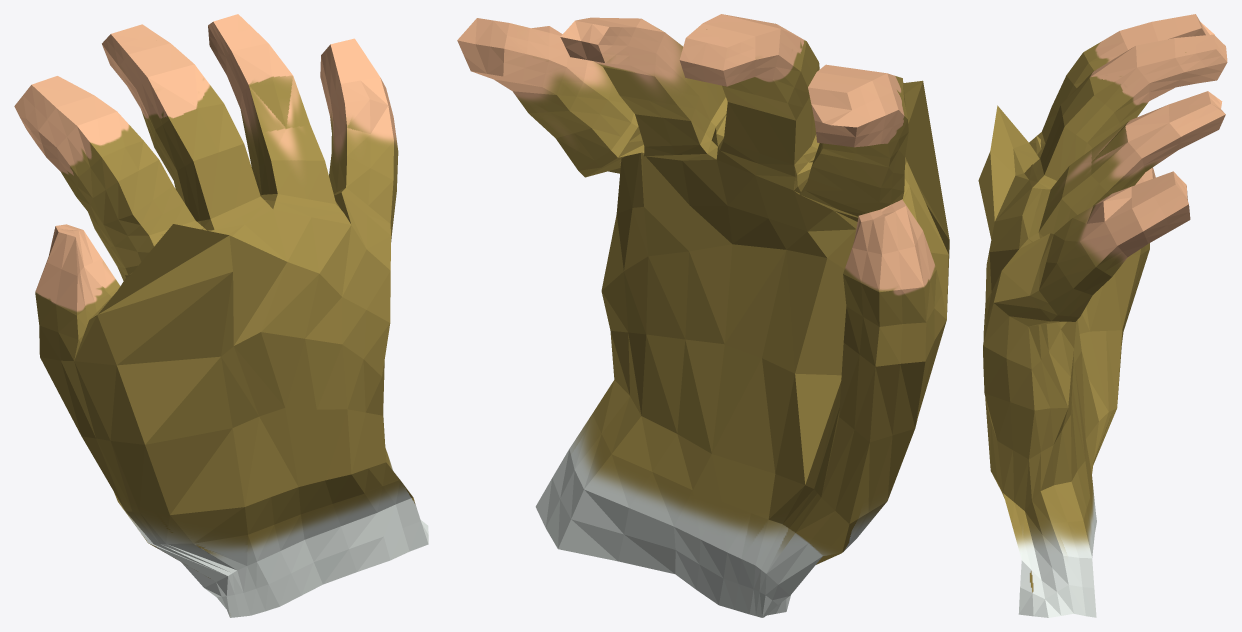
File: grip0028.obj
3 renders of one model, left to right at view 1: azimuth 30°, elevation 25°; view 2: azimuth 150°, elevation 25°; view 3: azimuth 270°, elevation 25°, orthographic. The views are drawn at different scales.
Parts seen in each view (by area): view 1: Hand; view 2: Hand; view 3: Hand.
Part boxes in pixels (x1,y1,x2,y2): Hand: [14, 14, 428, 617]; Hand: [457, 14, 949, 617]; Hand: [978, 14, 1227, 617].
Bounding box in the file's own units: 2.94 × 4.2 × 1.83.
